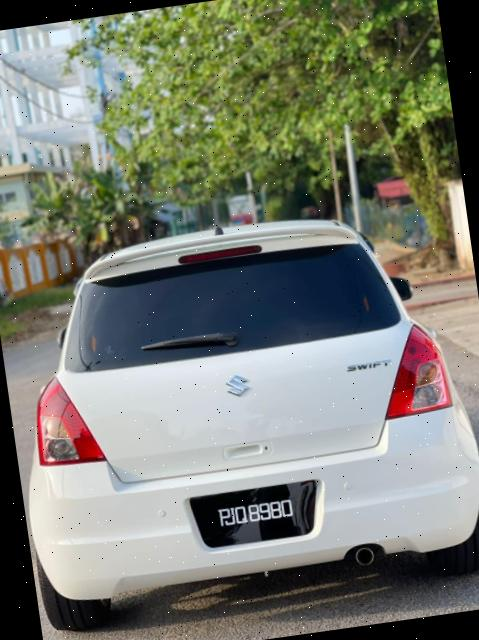License_Plate: (200, 487, 316, 548)
car: (1, 195, 479, 635)
